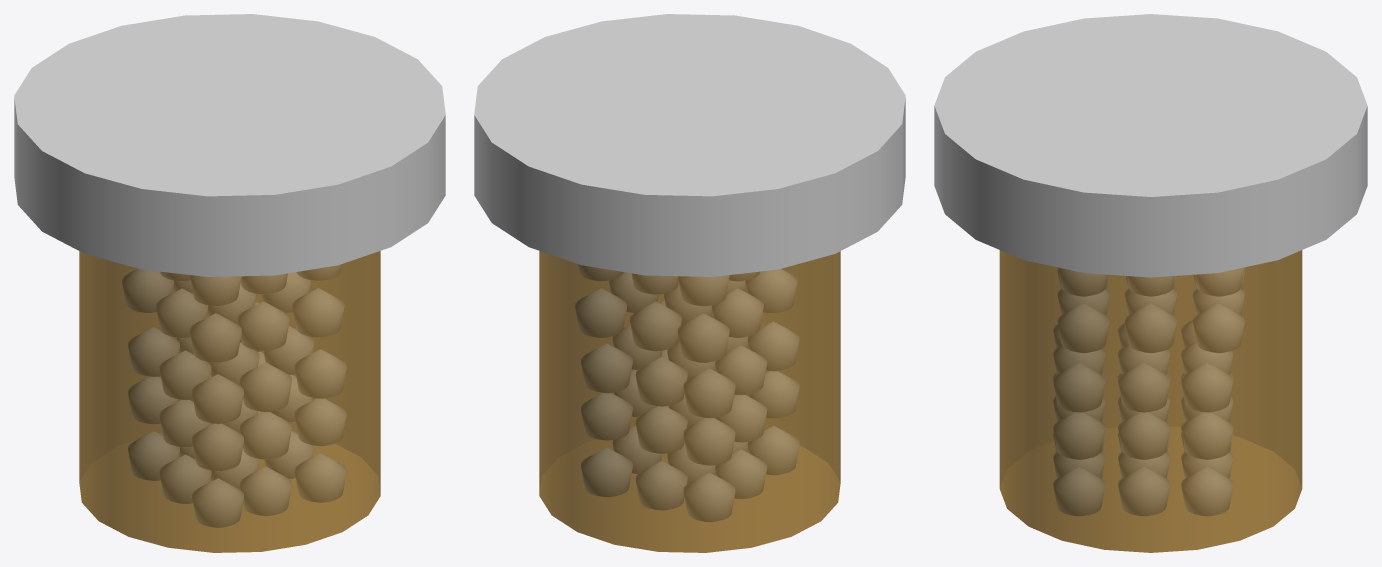
Rendered from pill.fbx.
3 renders of one model, left to right at view 1: azimuth 30°, elevation 25°; view 2: azimuth 150°, elevation 25°; view 3: azimuth 270°, elevation 25°, orthographic.
Parts seen in each view (by area): view 1: Pill_bottle; view 2: Pill_bottle; view 3: Pill_bottle.
Part boxes in pixels (x1=…): Pill_bottle: x1=14, y1=14, x2=445, y2=552; Pill_bottle: x1=474, y1=14, x2=905, y2=552; Pill_bottle: x1=934, y1=14, x2=1367, y2=552.
Size of the model in its own units: 2 by 1.96 by 2.
